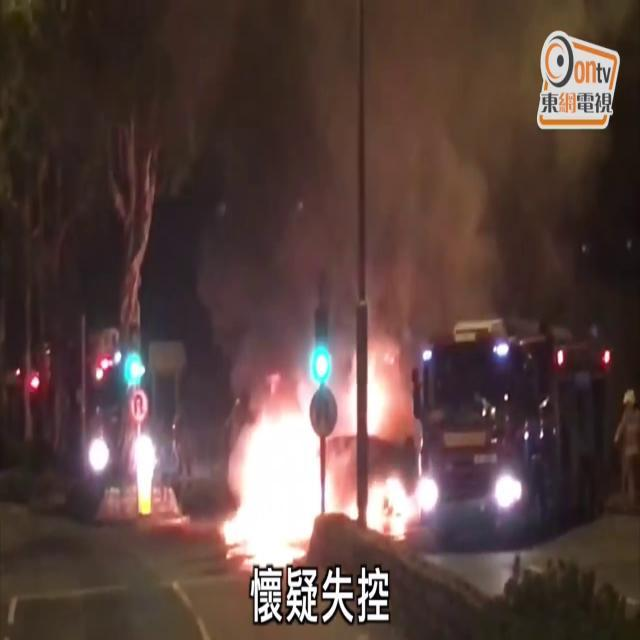Fire: (218, 358, 339, 570), (341, 342, 434, 540)
Smoke: (167, 1, 534, 346)
